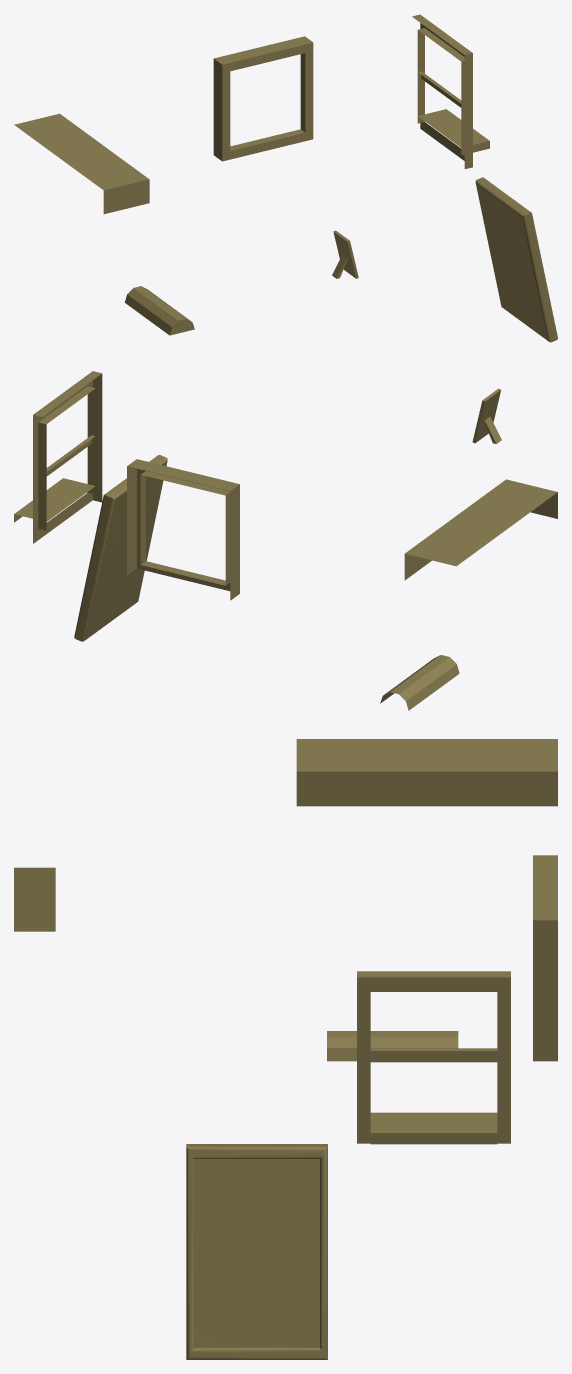
Rendered from WoodenText.fbx.
The picture shows the model from 3 angles, top to bottom: view 1: azimuth 30°, elevation 25°; view 2: azimuth 150°, elevation 25°; view 3: azimuth 270°, elevation 25°; orthographic projection. The views are drawn at different scales.
Parts seen in each view (by area): view 1: polySurface8, polySurface6, pCube18, polySurface2, pCylinder65, pCube23, polySurface10; view 2: polySurface8, pCube18, polySurface6, polySurface2, pCylinder65, pCube23, polySurface10, pCube24; view 3: polySurface8, pCube18, polySurface2, polySurface6, pCube23, polySurface10, pCylinder65, pCube24.
Boxes of the visible parts, x1=… form: polySurface8: x1=475, y1=177, x2=557, y2=342; polySurface6: x1=213, y1=36, x2=313, y2=161; pCube18: x1=14, y1=113, x2=149, y2=214; polySurface2: x1=412, y1=14, x2=472, y2=169; pCylinder65: x1=124, y1=286, x2=194, y2=335; pCube23: x1=418, y1=109, x2=489, y2=155; polySurface10: x1=332, y1=230, x2=358, y2=278; polySurface8: x1=74, y1=455, x2=167, y2=641; pCube18: x1=404, y1=479, x2=557, y2=580; polySurface6: x1=127, y1=459, x2=239, y2=600; polySurface2: x1=33, y1=371, x2=102, y2=543; pCylinder65: x1=380, y1=655, x2=459, y2=710; pCube23: x1=14, y1=478, x2=95, y2=522; polySurface10: x1=472, y1=388, x2=501, y2=443; pCube24: x1=46, y1=435, x2=95, y2=476; polySurface8: x1=186, y1=1144, x2=327, y2=1359; pCube18: x1=296, y1=739, x2=557, y2=806; polySurface2: x1=357, y1=971, x2=510, y2=1143; polySurface6: x1=533, y1=855, x2=557, y2=1061; pCube23: x1=370, y1=1112, x2=497, y2=1144; polySurface10: x1=14, y1=867, x2=55, y2=931; pCylinder65: x1=327, y1=1031, x2=458, y2=1061; pCube24: x1=370, y1=1048, x2=497, y2=1062.
Size of the model in its own units: 7.26 by 4.18 by 5.63.
